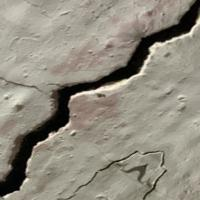crack: (1, 0, 199, 199)
